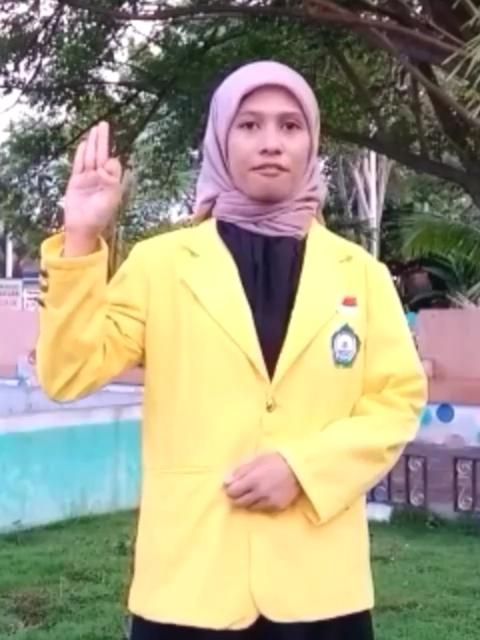F: (64, 118, 126, 245)
